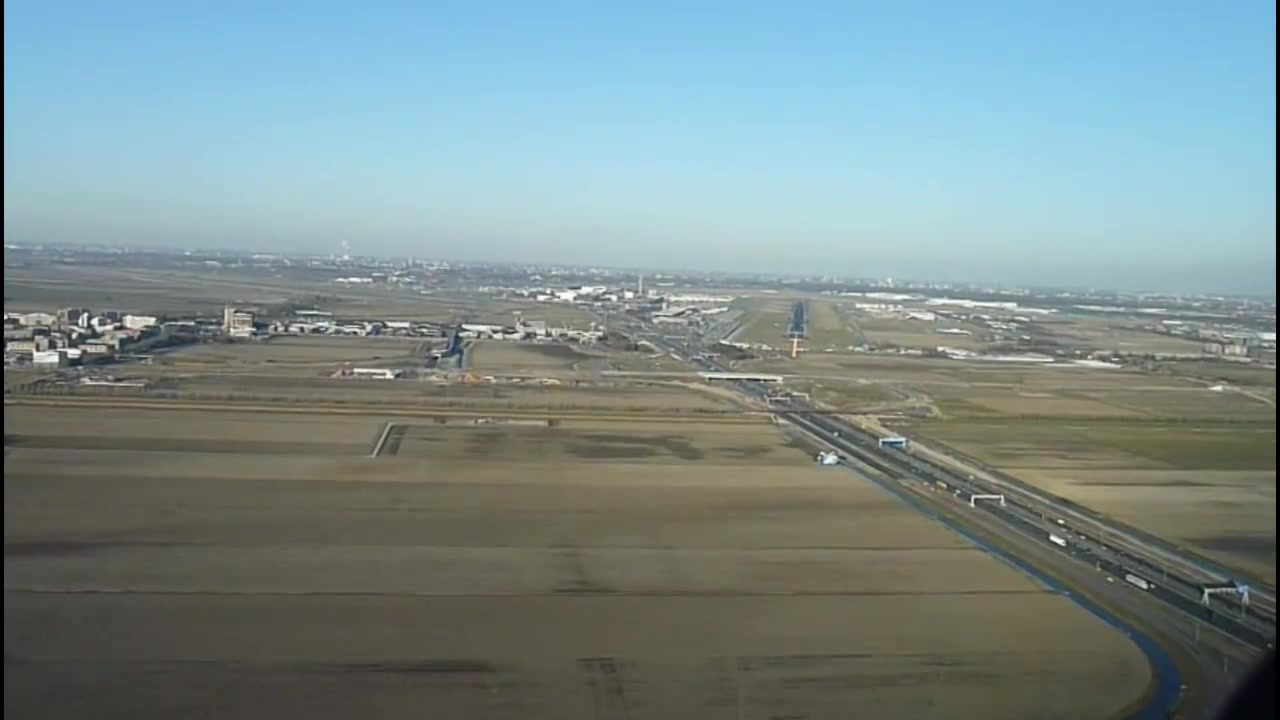runway: (785, 301, 809, 338)
